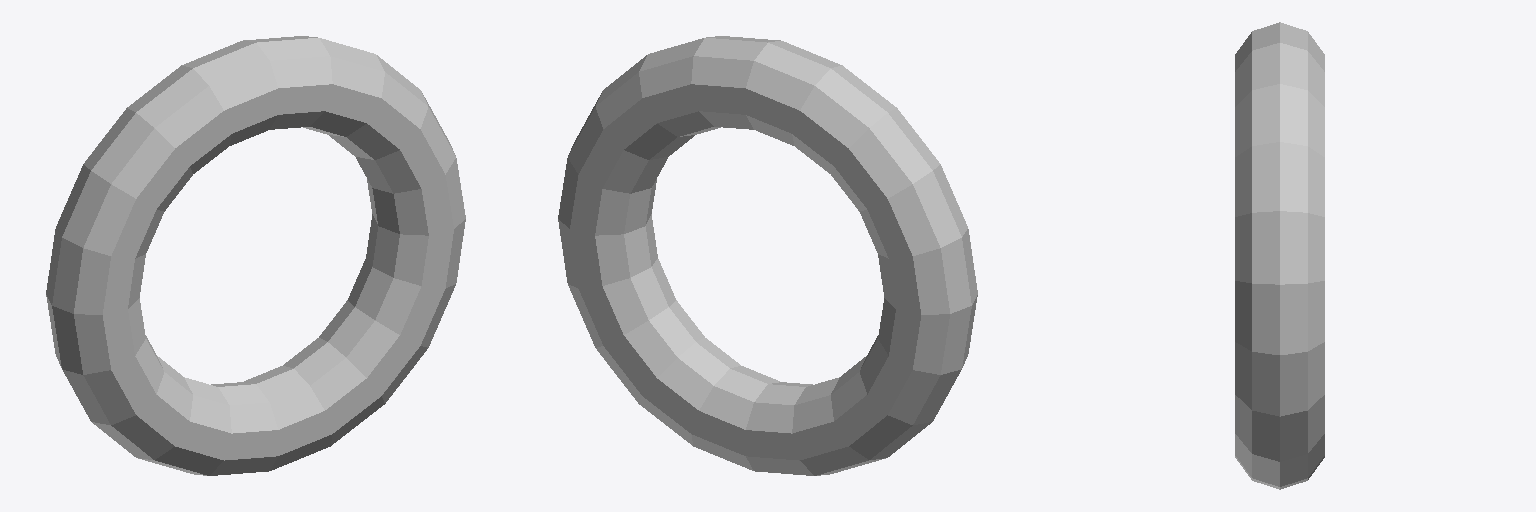
The model's file is ArcMarker.obj.
3 views of the same model, side by side, from view 1: azimuth 30°, elevation 25°; view 2: azimuth 150°, elevation 25°; view 3: azimuth 270°, elevation 25° (orthographic).
Parts seen in each view (by area): view 1: pTorus1; view 2: pTorus1; view 3: pTorus1.
Part boxes in pixels (bbox=[...]): pTorus1: bbox=[46, 36, 465, 475]; pTorus1: bbox=[558, 36, 977, 475]; pTorus1: bbox=[1235, 22, 1324, 489].
Bounding box in the file's own units: 1.25 × 1.25 × 0.2378.